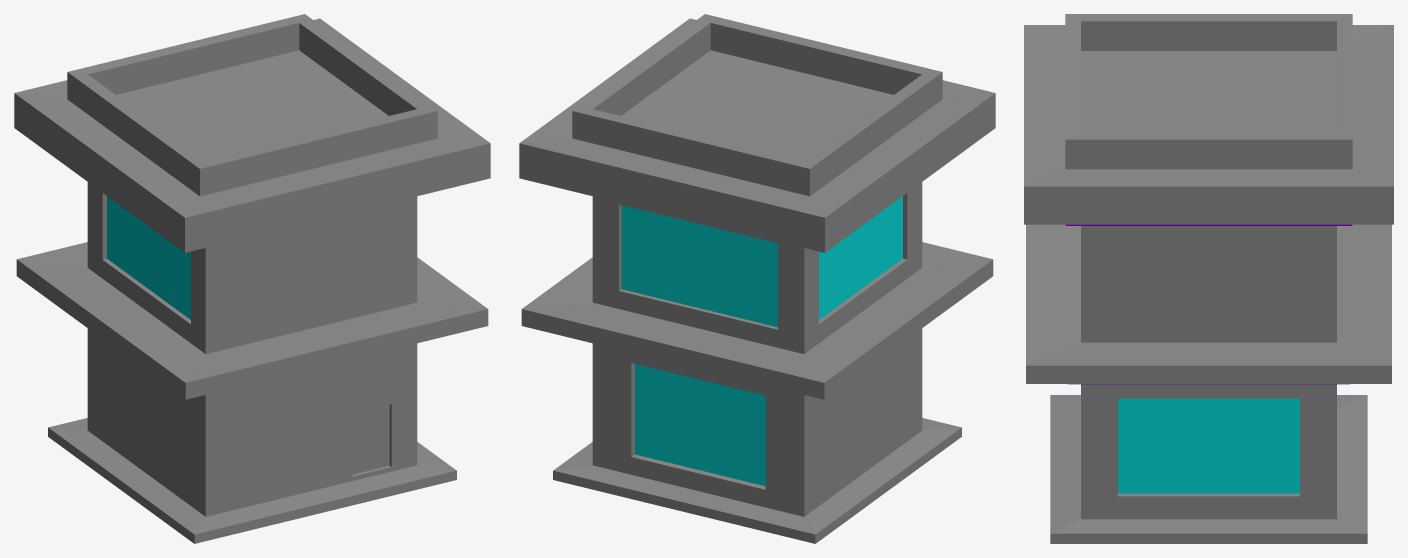
Rendered from Building3.fbx.
3 renders of one model, left to right at view 1: azimuth 30°, elevation 25°; view 2: azimuth 150°, elevation 25°; view 3: azimuth 270°, elevation 25°, orthographic. The views are drawn at different scales.
Parts seen in each view (by area): view 1: Building6; view 2: Building6; view 3: Building6.
Boxes of the visible parts, bbox=[...] form: Building6: bbox=[14, 14, 490, 543]; Building6: bbox=[519, 14, 995, 543]; Building6: bbox=[1024, 14, 1393, 543].
Bounding box in the file's own units: 14.35 × 16.5 × 13.86.
